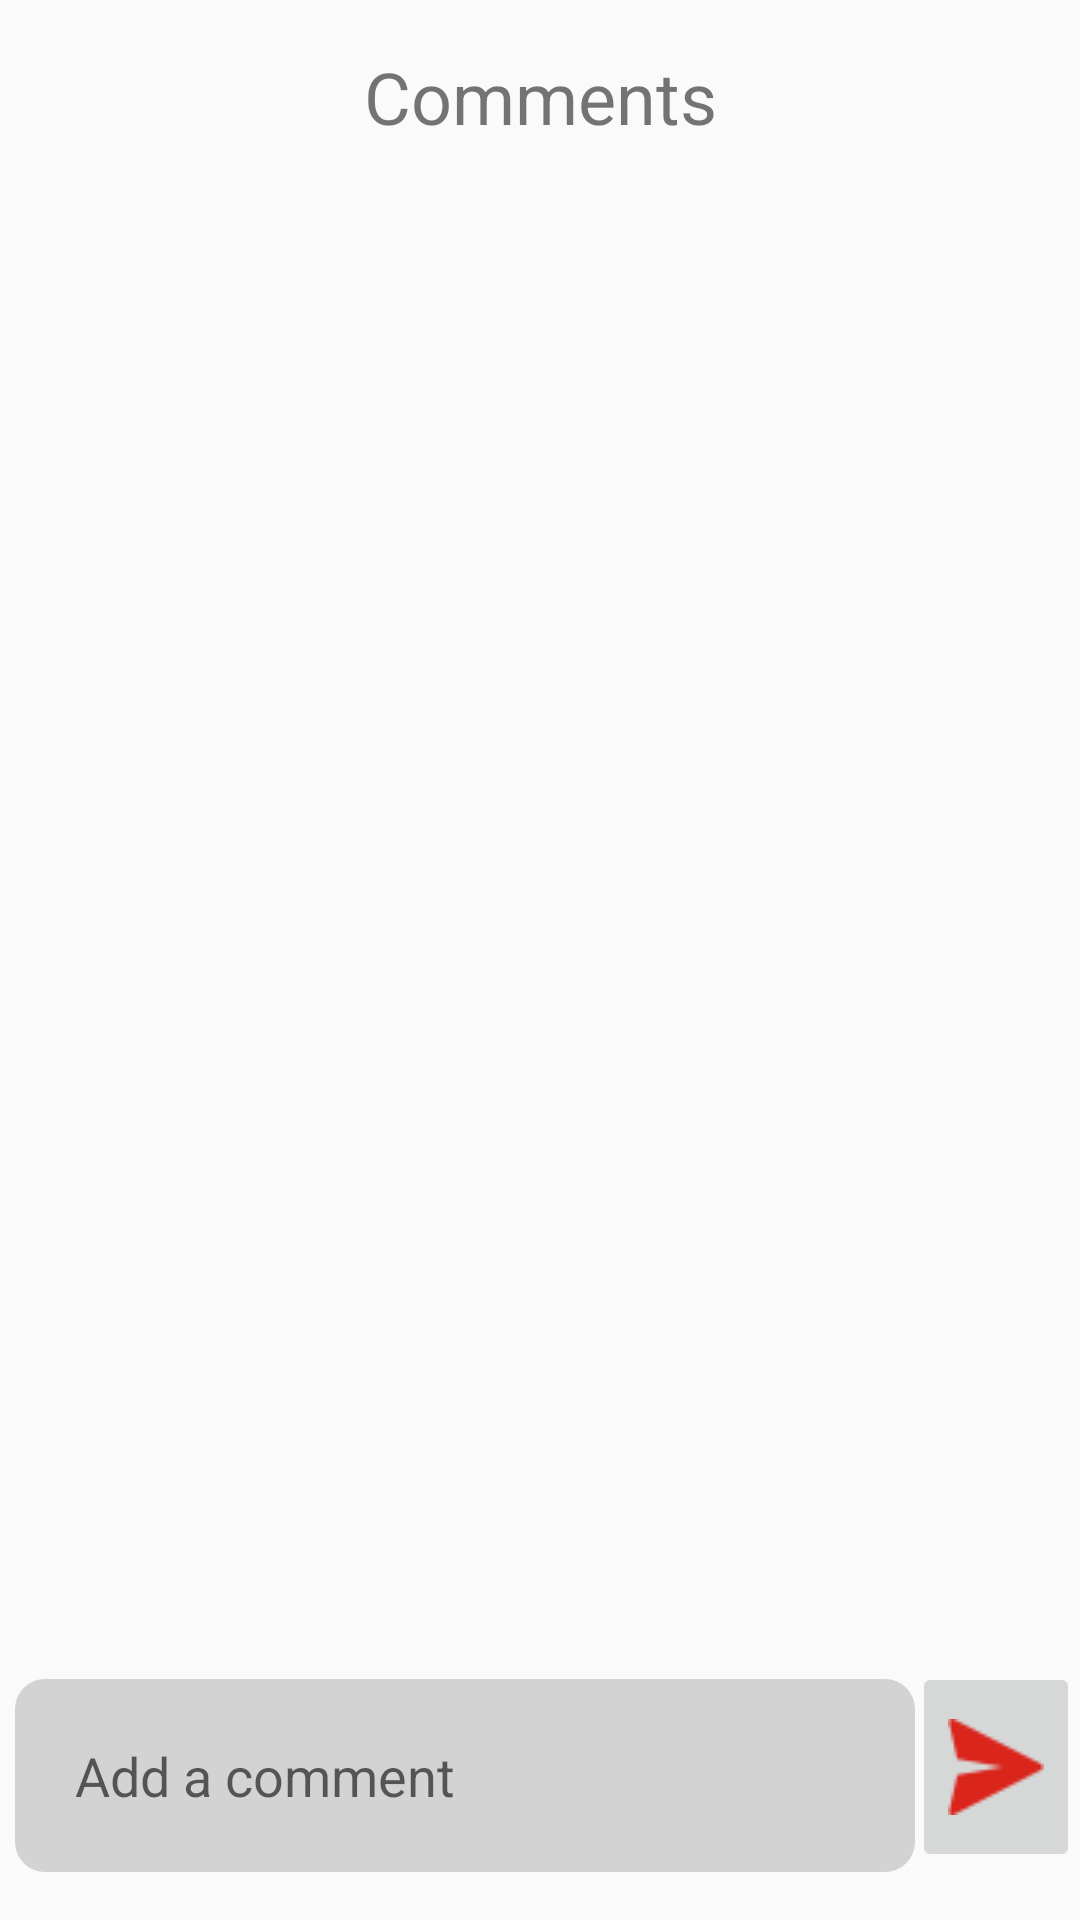

Named icons in this screenshot (1080*1920) and their centers, (x=x, y=y):
send: (x=996, y=1767)
